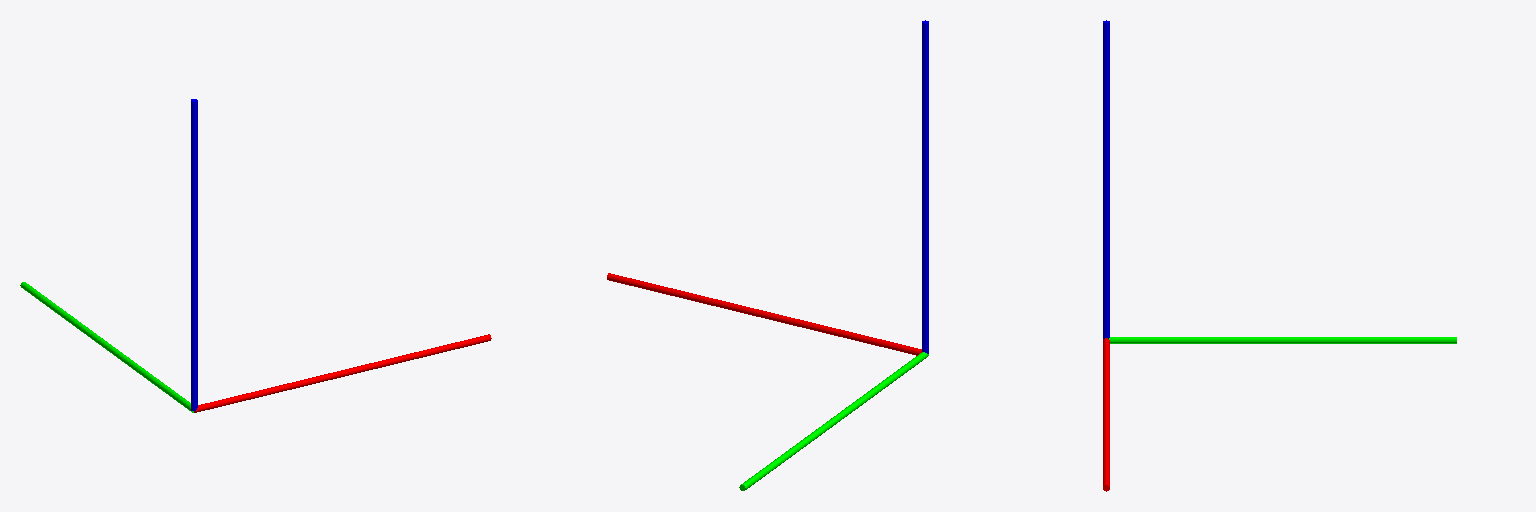
robot.urdf — axis:
<?xml version="1.0" ?>
<robot name="axis">
  <link name="world"/>
  <link name="x_link">
    <visual>
      <origin rpy="0 1.5708 0" xyz="0.1 0 0"/>
      <geometry>
				<cylinder radius="0.002" length="0.2"/>
      </geometry>
       <material name="red">
        <color rgba="1 0.0 0 0.5"/>
      </material>
    </visual>
  </link>
  <link name="y_link">
    <visual>
      <origin rpy="1.5708 0 0" xyz="0 0.1 0"/>
      <geometry>
        <cylinder radius="0.002" length="0.2"/>
      </geometry>
       <material name="green">
        <color rgba="0 1 0 0.5"/>
      </material>
    </visual>
  </link>
      <link name="z_link">
    <visual>
      <origin rpy="0 0 0" xyz="0 0  0.1 "/>
      <geometry>
        <cylinder radius="0.002" length="0.2"/>
      </geometry>
       <material name="blue">
        <color rgba="0 0 1 0.5"/>
      </material>
    </visual>
  </link>


 <joint name="x_joint" type="fixed">
    <origin xyz="0 0 0" rpy="0 0 0"/>
    <parent link="world"/>
    <child link="x_link"/>
 </joint>
 <joint name="y_joint" type="fixed">
    <origin xyz="0 0 0" rpy="0 0 0"/>
    <parent link="world"/>
    <child link="y_link"/>
 </joint>
   <joint name="z_joint" type="fixed">
    <origin xyz="0 0 0" rpy="0 0 0"/>
    <parent link="world"/>
    <child link="z_link"/>
 </joint>
</robot>

--- What the picture shows (computed from the rendered views, not written in the file) ---
The picture shows the robot from 3 angles, left to right: view 1: azimuth 30°, elevation 25°; view 2: azimuth 150°, elevation 25°; view 3: azimuth 270°, elevation 25°; orthographic projection.
Robot: axis — 4 links, 3 joints (3 fixed); root link world; default pose: all joints at 0.
Links seen in each view (by area): view 1: z_link, x_link, y_link; view 2: x_link, z_link, y_link; view 3: y_link, z_link, x_link.
Boxes of the visible links, bbox=[...] form: z_link: bbox=[191, 99, 197, 410]; x_link: bbox=[194, 334, 491, 412]; y_link: bbox=[20, 282, 193, 412]; x_link: bbox=[607, 273, 921, 355]; z_link: bbox=[922, 20, 928, 353]; y_link: bbox=[739, 352, 928, 490]; y_link: bbox=[1109, 337, 1456, 343]; z_link: bbox=[1103, 20, 1109, 338]; x_link: bbox=[1103, 338, 1109, 491].
Size in the robot's own frame: 0.202 by 0.202 by 0.202 metres.
Geometry: primitives only (box / cylinder / sphere), no mesh files.
